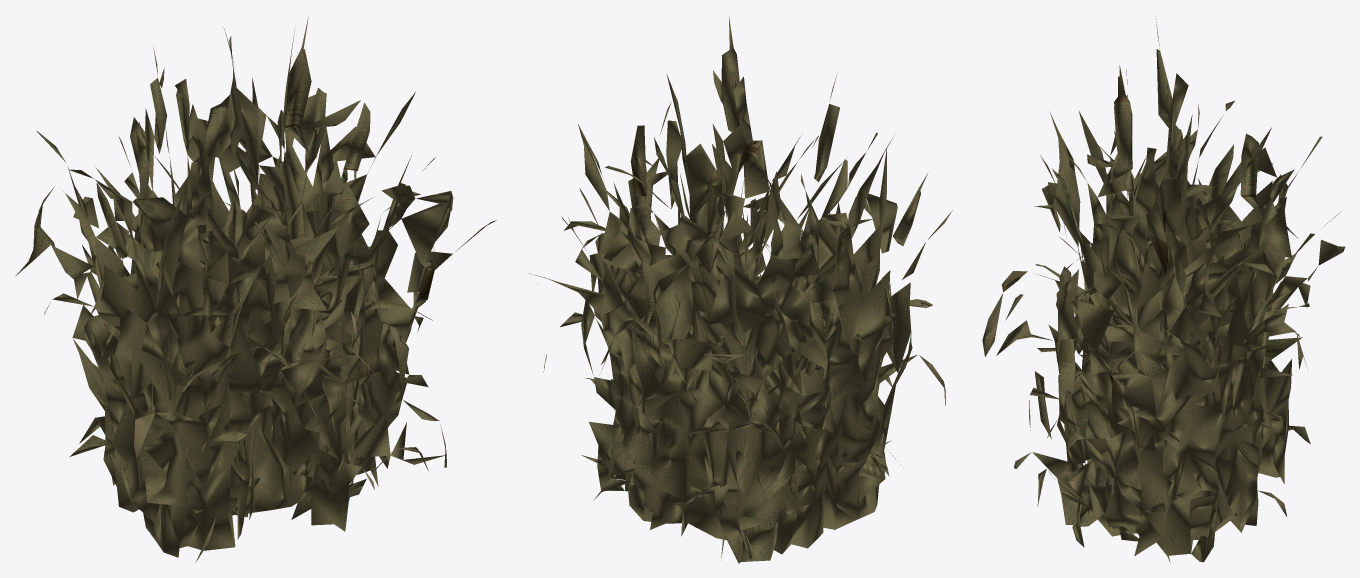
Rendered from reed.glb.
3 views of the same model, side by side, from view 1: azimuth 30°, elevation 25°; view 2: azimuth 150°, elevation 25°; view 3: azimuth 270°, elevation 25° (orthographic). The views are drawn at different scales.
Size of the model in its own units: 1.57 by 1.9 by 1.37.
Materials: 1 (1 with a texture image).
